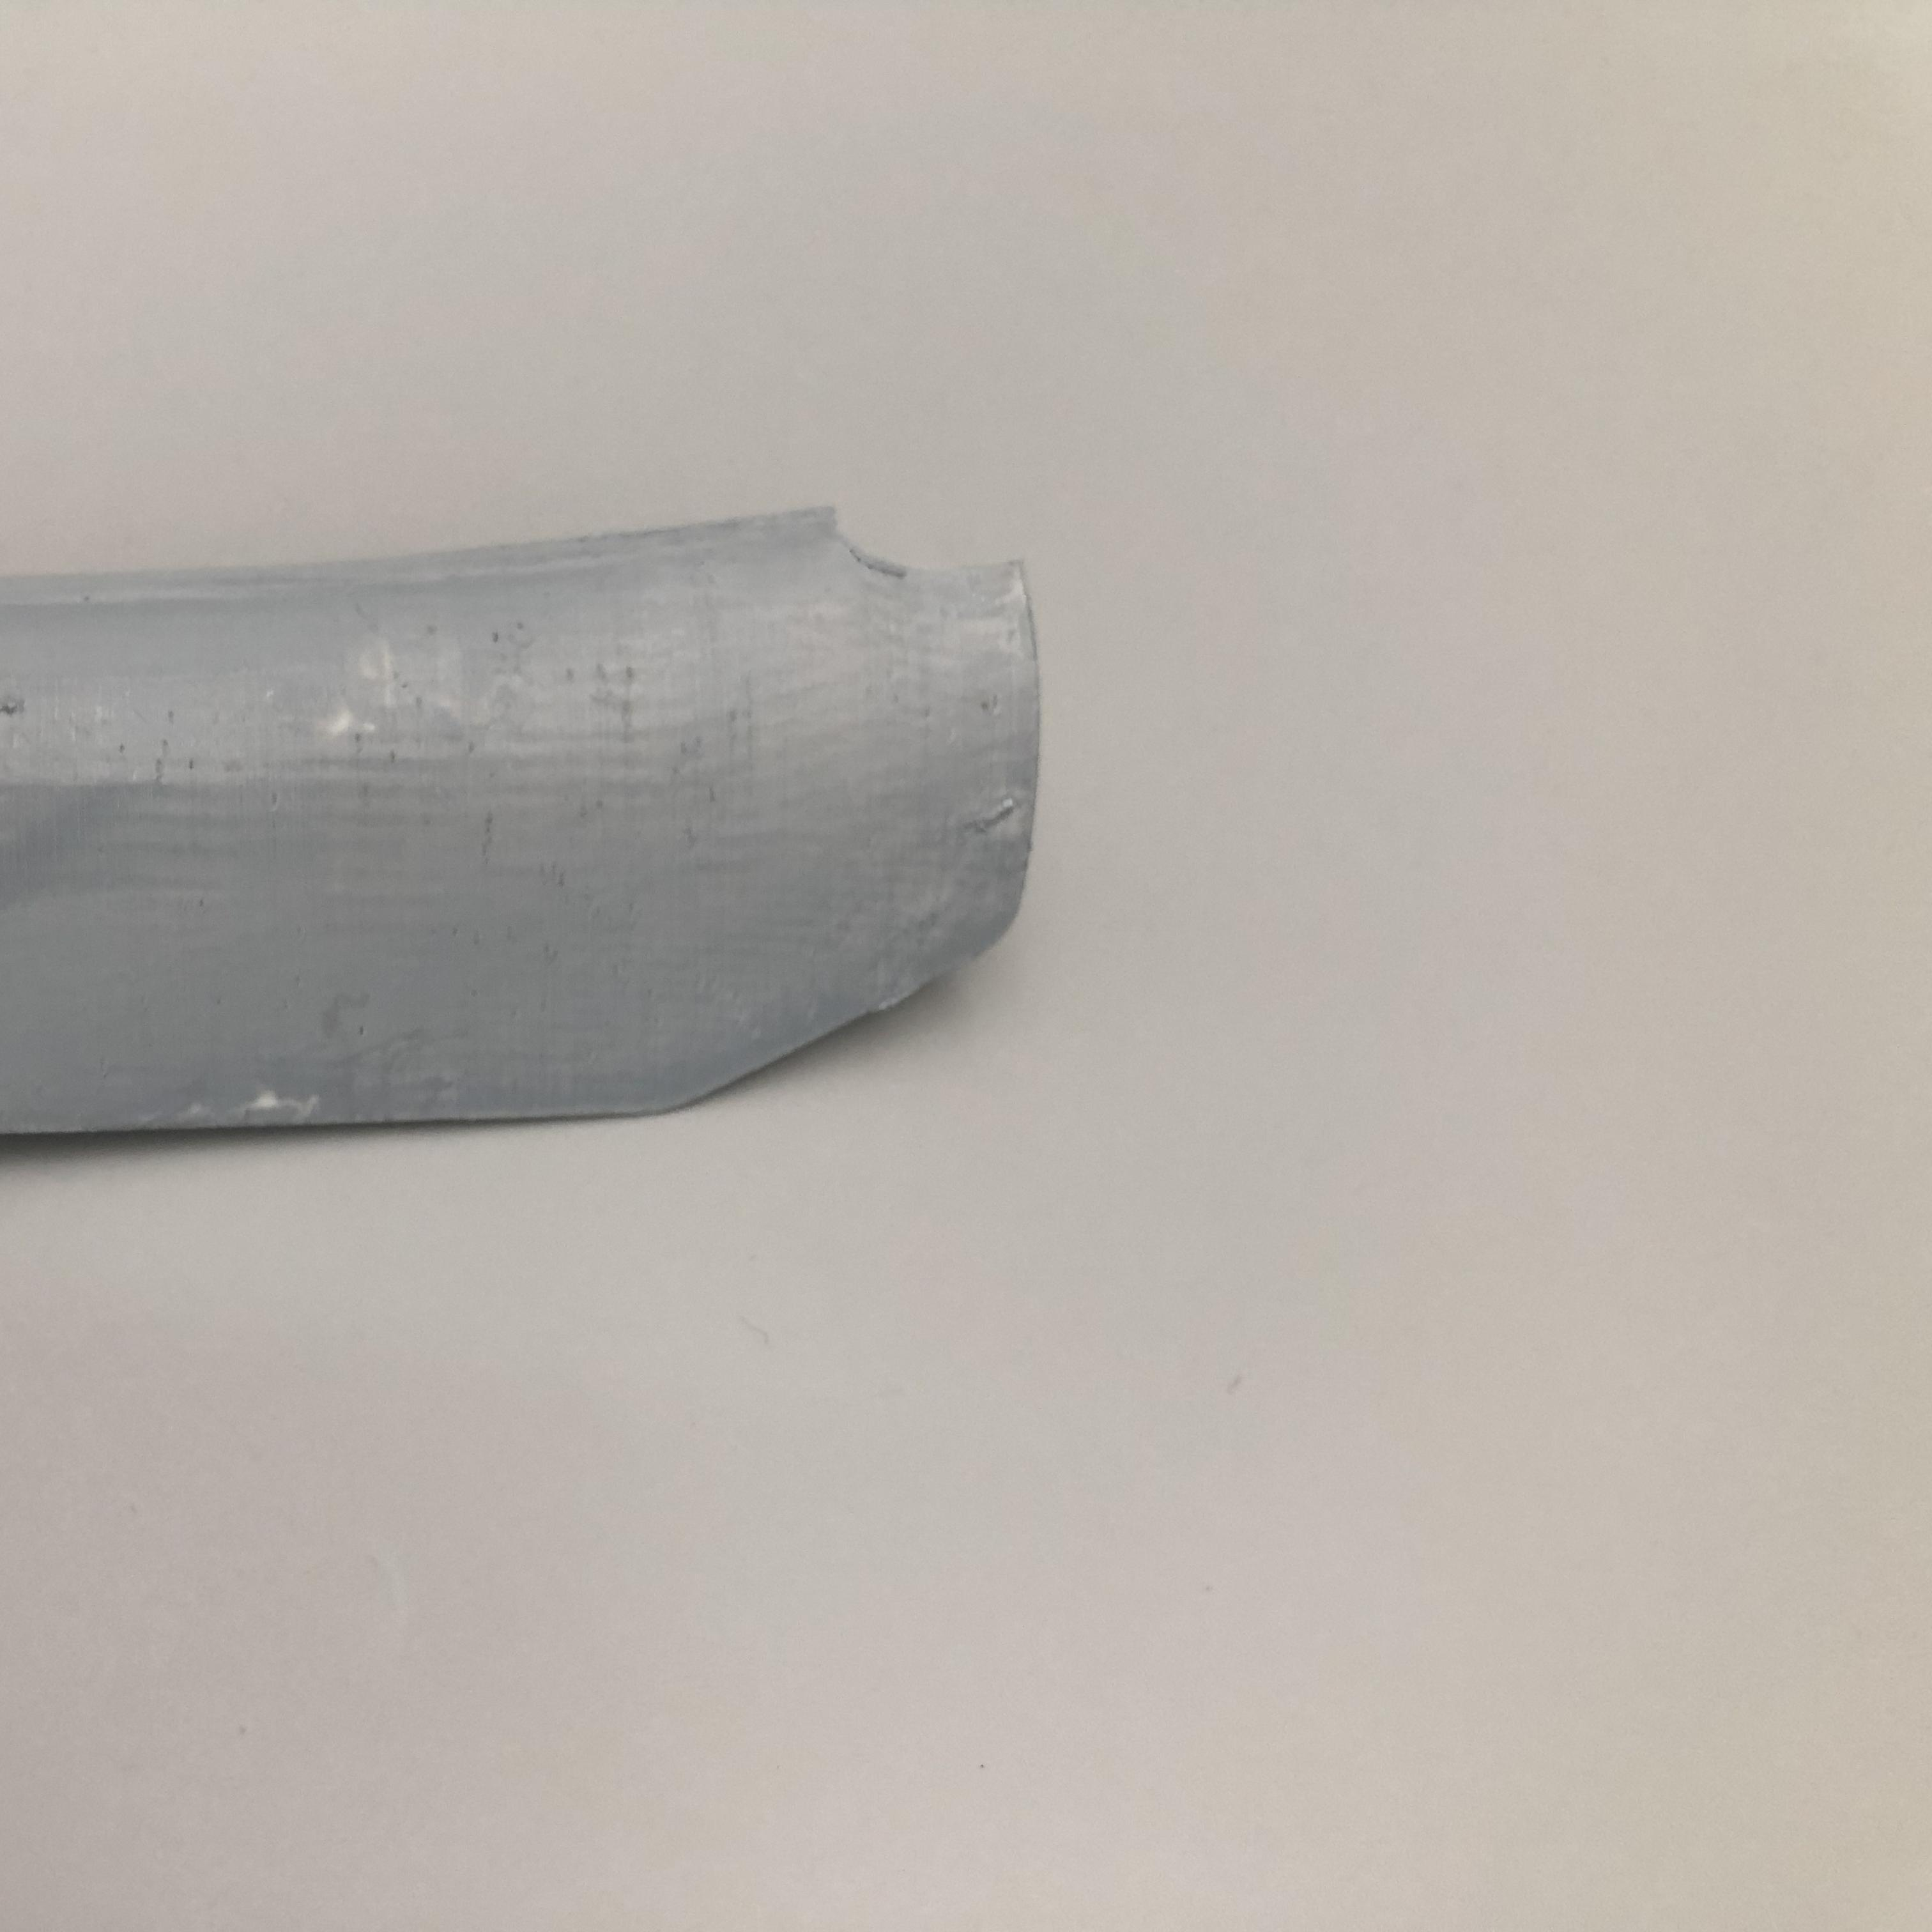fracture: (824, 495, 1026, 596)
